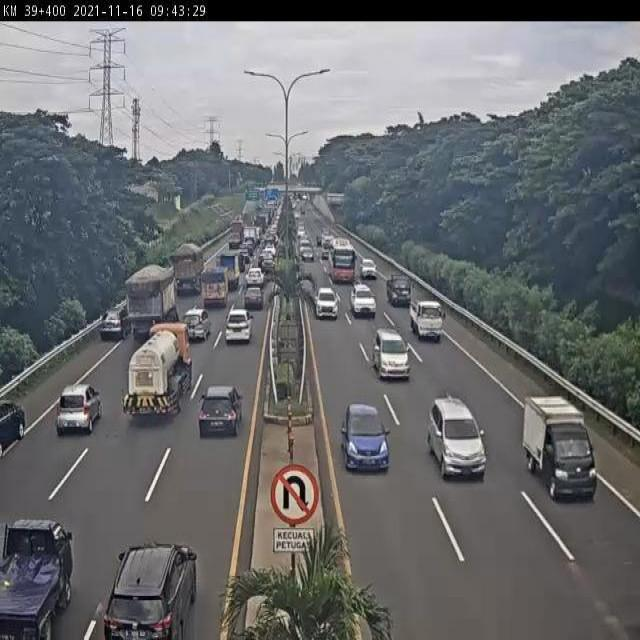car: (106, 542, 199, 640), (427, 396, 489, 481), (341, 404, 393, 476), (49, 389, 98, 447), (194, 388, 241, 444), (373, 331, 409, 380), (94, 308, 132, 349), (175, 313, 209, 348), (227, 311, 252, 347), (353, 284, 375, 316), (313, 284, 336, 313), (242, 288, 264, 317)
truck: (522, 395, 597, 503), (0, 525, 67, 640), (120, 327, 190, 425), (122, 265, 175, 347), (170, 244, 205, 297), (326, 236, 357, 284), (409, 299, 444, 341), (199, 265, 228, 311), (386, 274, 411, 310)
